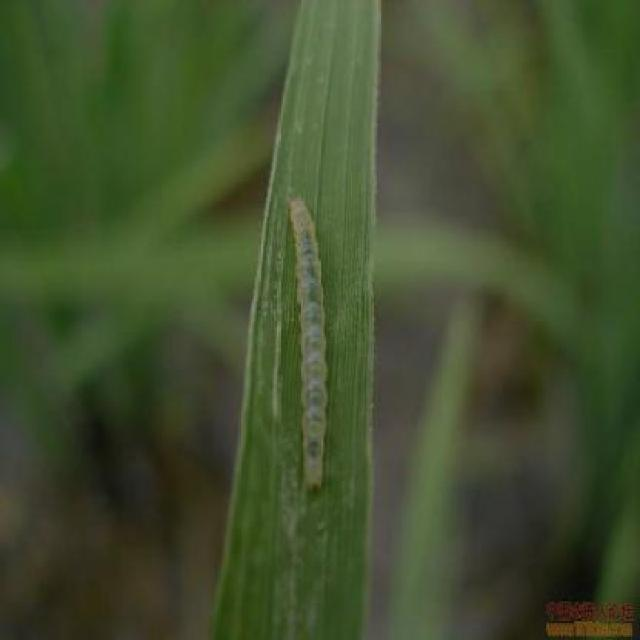leaf-folder: (277, 178, 349, 505)
